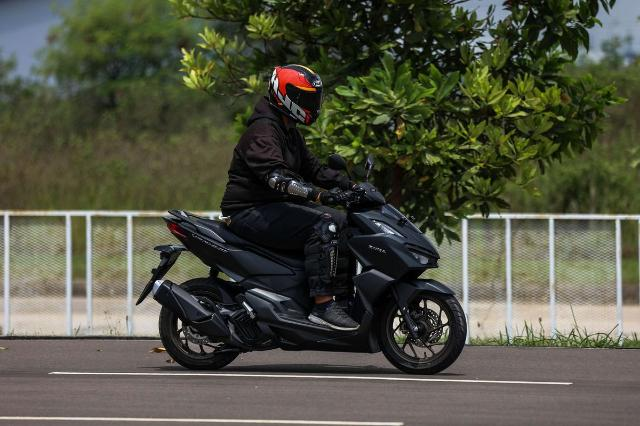helm: (273, 64, 326, 126)
motor: (140, 148, 468, 384)
